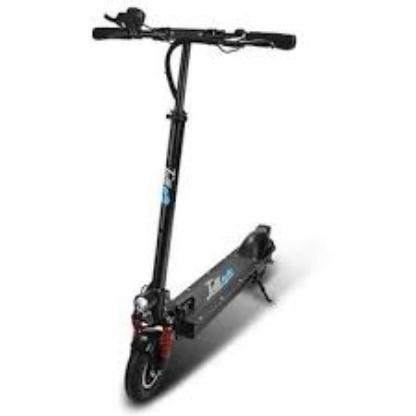bike: (86, 5, 290, 404), (124, 225, 277, 403)
